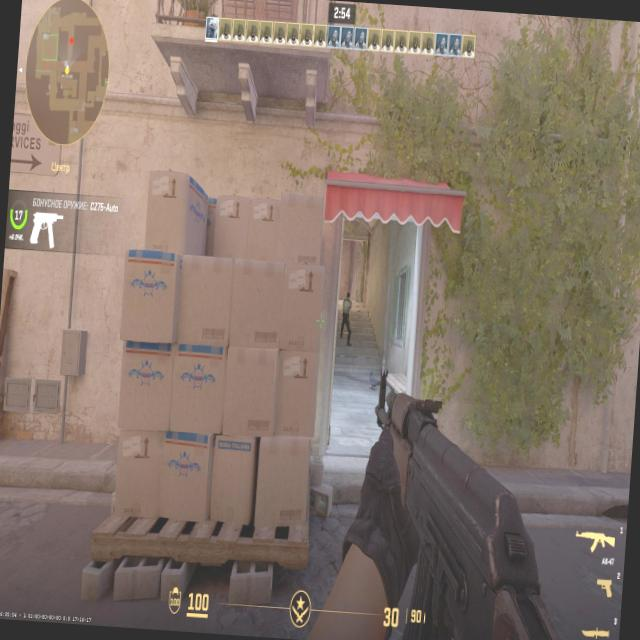T: (343, 290, 354, 336)
T_heat: (344, 292, 350, 302)
